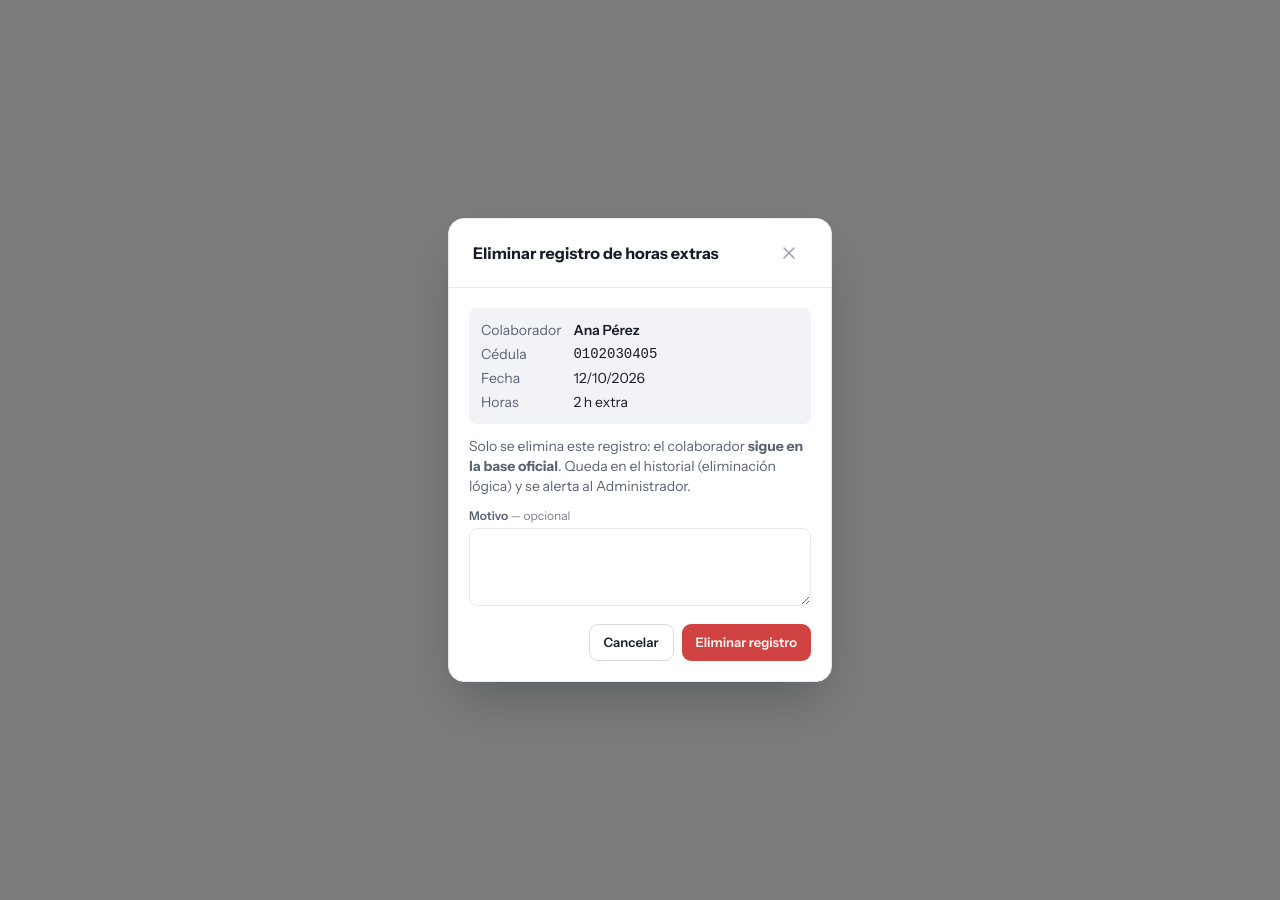
Test: OvertimeDeleteDialog › si el período está cerrado muestra el motivo y no cierra
Click the button "Eliminar registro": coordinates (746, 643) [682,624,811,661]
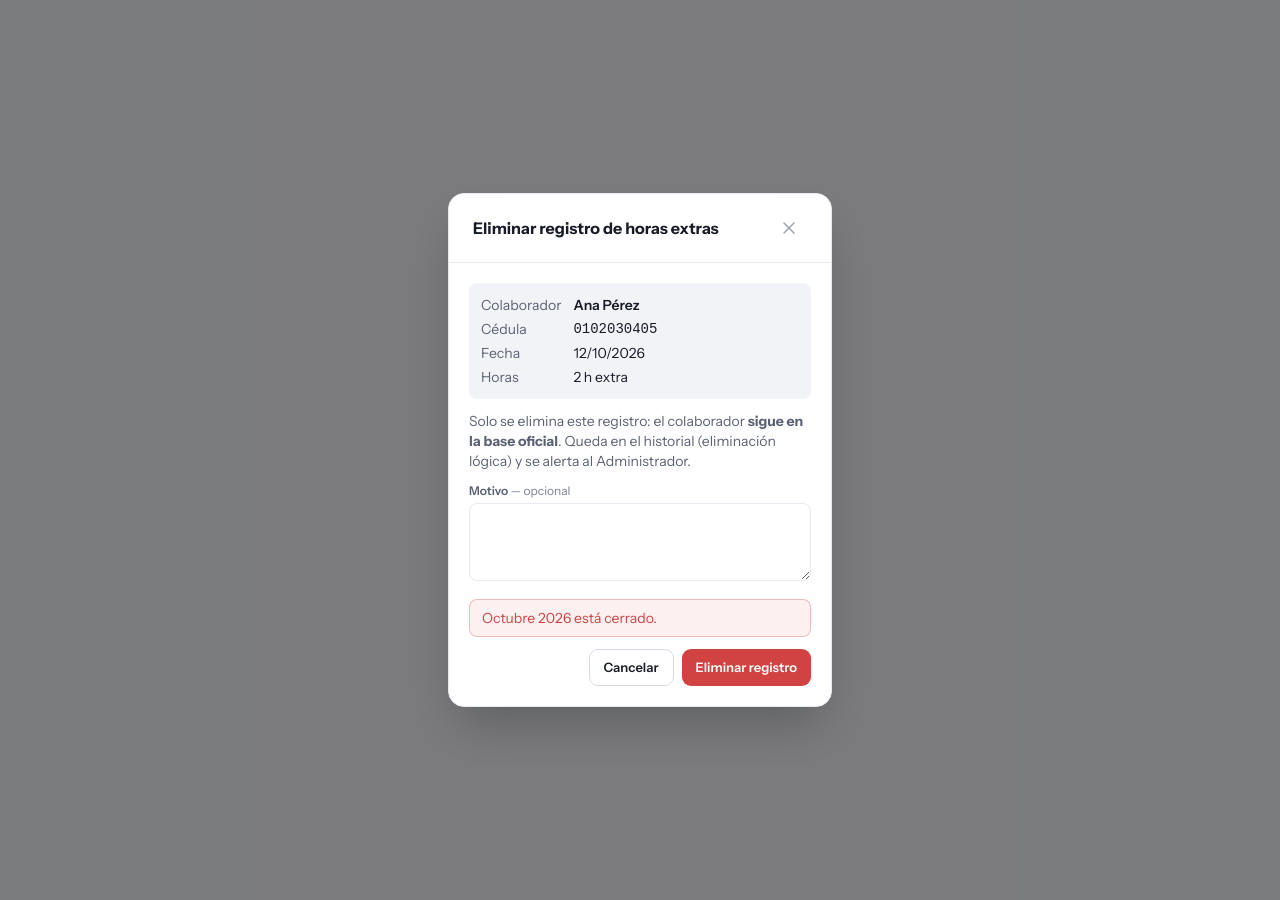
Expected: the text "Octubre 2026 está cerrado." is shown, [469,599,811,637]
